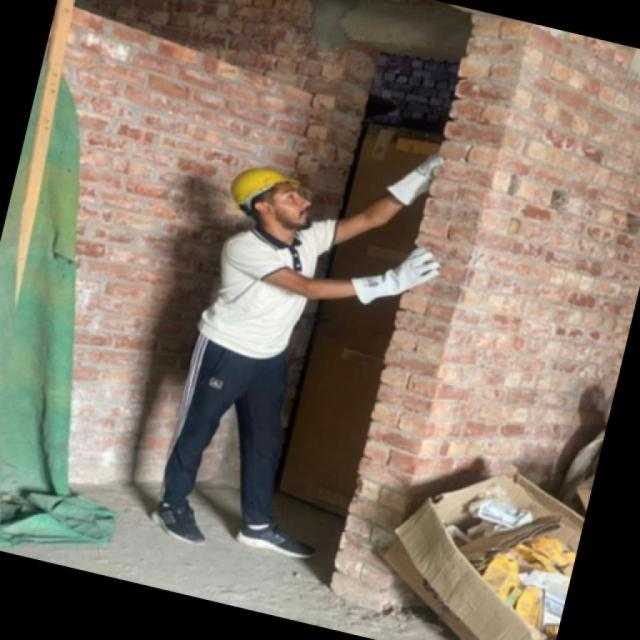Gloves-Detection: (350, 251, 442, 299), (388, 155, 440, 211)
